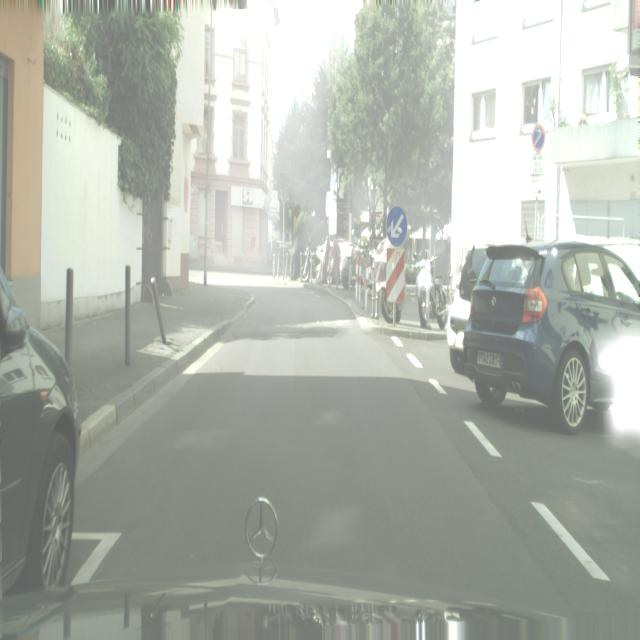bus: (329, 237, 342, 286)
motorcycle: (415, 254, 447, 329)
person: (463, 239, 639, 434), (0, 266, 81, 598), (447, 245, 479, 374)
